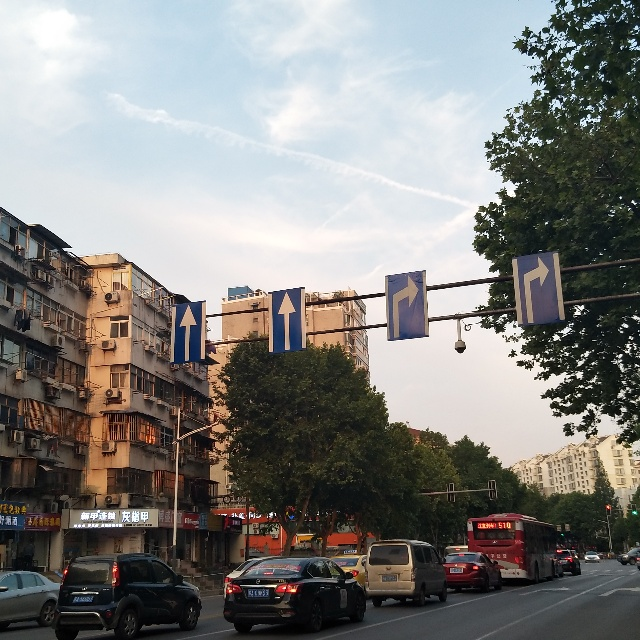right: (505, 249, 570, 331), (384, 268, 437, 345)
straight: (266, 285, 318, 359), (169, 300, 215, 371)
